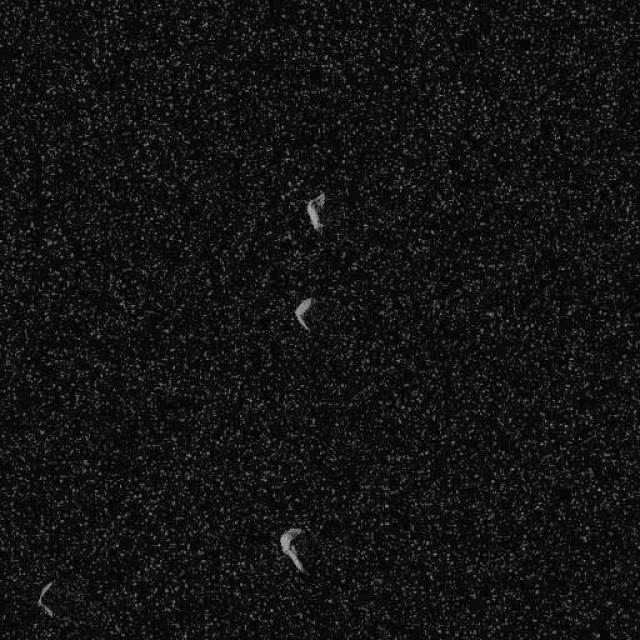D2: (278, 526, 308, 574), (305, 190, 326, 231), (293, 295, 315, 331), (36, 580, 55, 618)
